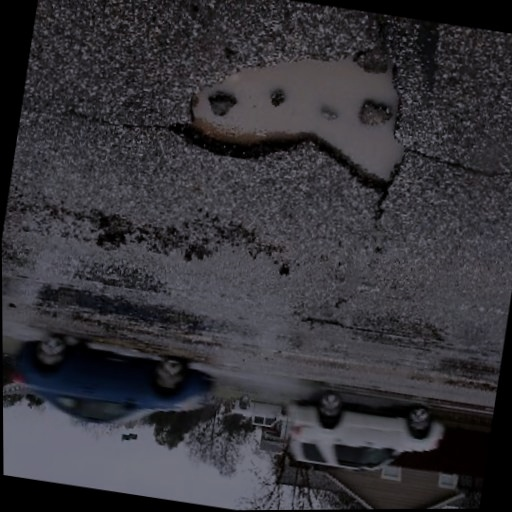pothole: (167, 26, 423, 200), (38, 280, 205, 338), (441, 375, 497, 397)
